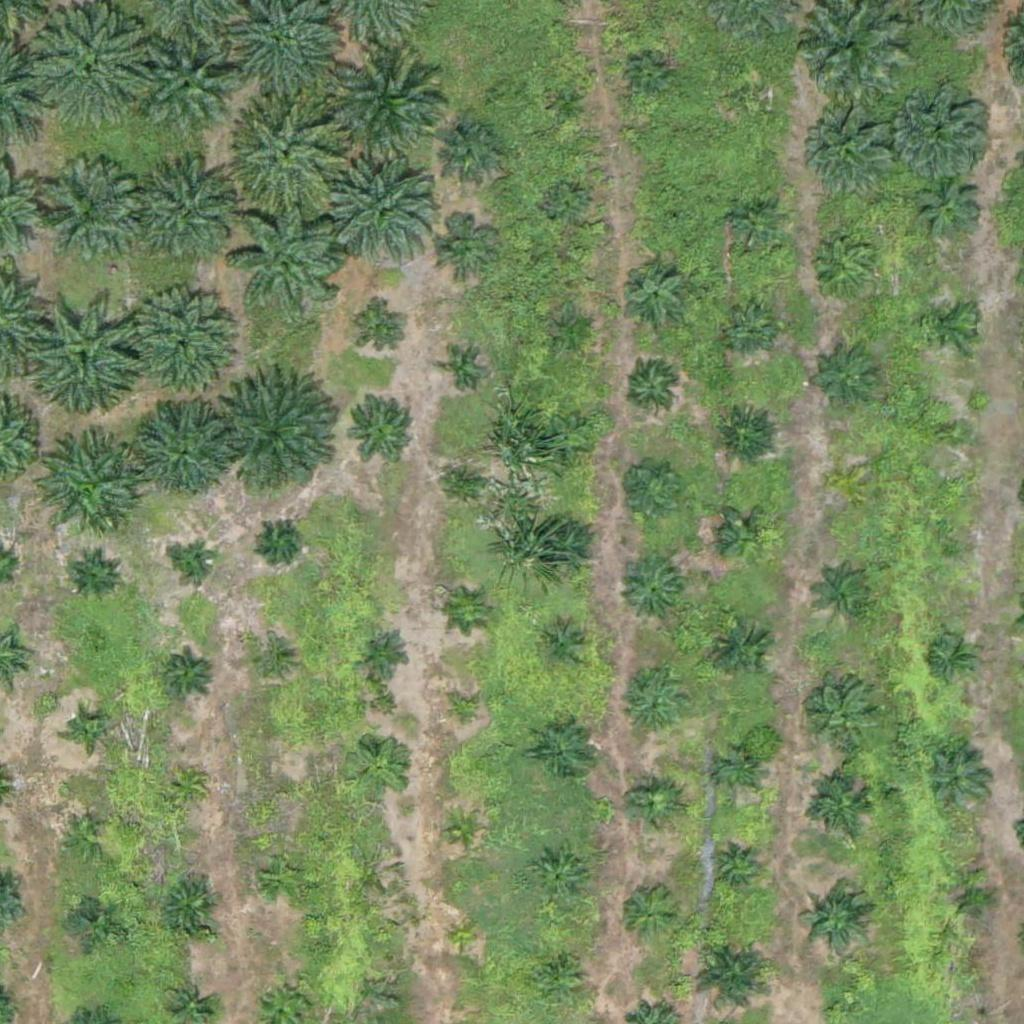Kelapa_Sawit: (330, 54, 455, 180), (24, 293, 149, 419), (31, 6, 156, 131), (220, 374, 345, 499), (232, 201, 345, 314), (121, 287, 234, 400), (329, 161, 441, 274), (233, 96, 345, 209), (30, 437, 142, 550), (896, 79, 996, 180), (131, 398, 231, 499), (137, 163, 237, 264), (36, 162, 136, 263), (141, 45, 228, 134), (809, 112, 896, 200), (690, 933, 777, 1021), (798, 884, 873, 960), (612, 454, 687, 530), (344, 390, 419, 465), (616, 882, 679, 945), (621, 675, 684, 738), (927, 748, 990, 811), (534, 718, 597, 781), (530, 848, 593, 911), (535, 518, 598, 581), (431, 217, 494, 280), (441, 119, 504, 182), (815, 347, 878, 410), (714, 402, 777, 465), (724, 192, 787, 255), (620, 559, 682, 622), (710, 619, 772, 682), (810, 776, 872, 839), (812, 686, 875, 748), (818, 564, 880, 627), (159, 875, 221, 938), (621, 261, 683, 324), (917, 174, 979, 237), (815, 237, 877, 300), (349, 736, 411, 799), (539, 622, 589, 673), (69, 892, 119, 943), (358, 307, 408, 358), (923, 297, 973, 348), (948, 874, 998, 925), (546, 416, 596, 467), (628, 781, 678, 831), (720, 511, 770, 561), (927, 632, 977, 682), (69, 550, 119, 600), (163, 648, 213, 698), (533, 949, 583, 999), (628, 363, 678, 413), (722, 304, 772, 354), (359, 627, 409, 677), (259, 852, 309, 902), (62, 812, 112, 862), (709, 842, 758, 893), (453, 592, 491, 630), (260, 520, 298, 558), (546, 183, 584, 221), (550, 85, 588, 123), (553, 309, 591, 347), (446, 693, 484, 731), (444, 812, 482, 850), (446, 919, 484, 957), (168, 766, 206, 804), (71, 711, 109, 749), (177, 546, 214, 584), (736, 79, 774, 116), (719, 751, 756, 789), (632, 59, 669, 97), (254, 644, 291, 682), (266, 773, 303, 811), (444, 354, 481, 391), (448, 464, 485, 501), (941, 534, 966, 559), (941, 418, 966, 443), (836, 472, 861, 497), (663, 209, 688, 234)
